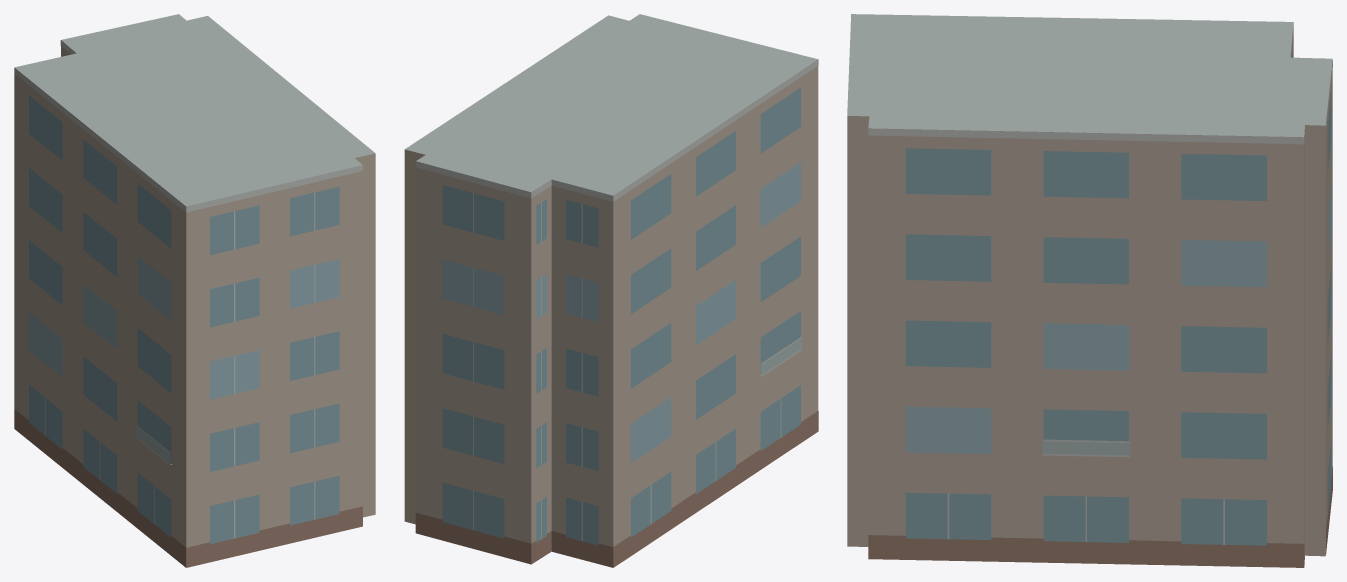
The model's file is survey-upis-32867985.glb.
The picture shows the model from 3 angles, left to right: view 1: azimuth 30°, elevation 25°; view 2: azimuth 150°, elevation 25°; view 3: azimuth 270°, elevation 25°; orthographic projection. The views are drawn at different scales.
Visible parts, largest first — view 1: survey-upis-32867985.tmp; view 2: survey-upis-32867985.tmp; view 3: survey-upis-32867985.tmp.
Boxes of the visible parts, bbox=[...] form: survey-upis-32867985.tmp: bbox=[14, 14, 375, 567]; survey-upis-32867985.tmp: bbox=[404, 14, 818, 567]; survey-upis-32867985.tmp: bbox=[847, 14, 1332, 567].
Size of the model in its own units: 9.06 by 14.75 by 15.08.
